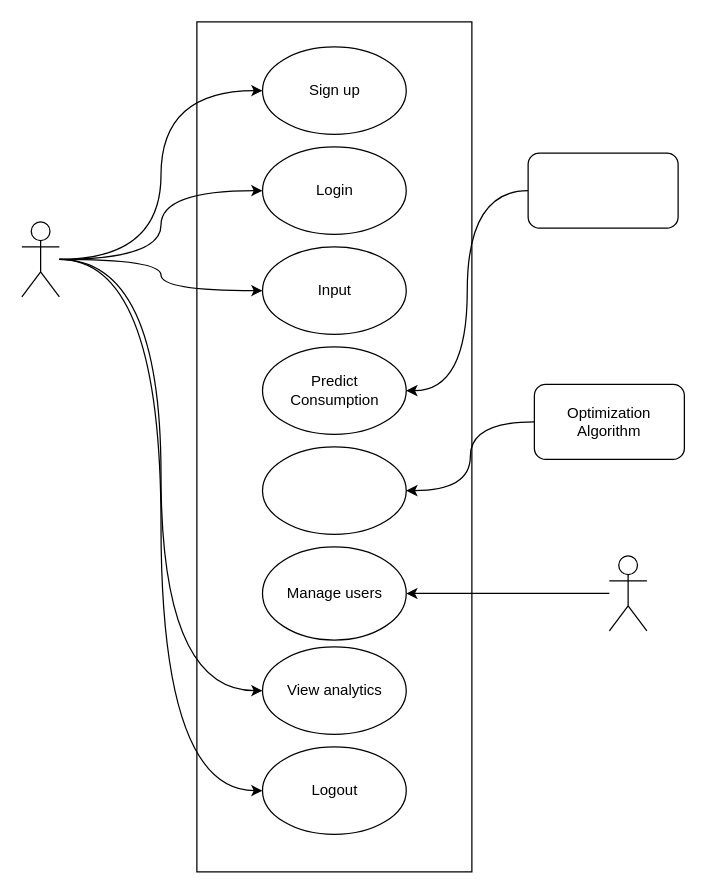
Some shapes in this 706 by 894 pixel diagram are drawn without their labels. The centre of each missing label's shape, as x and y in pixels:
Admin: pixel 627 593
Prediction Model: pixel 602 190
Recommendations: pixel 333 490
User: pixel 40 259
